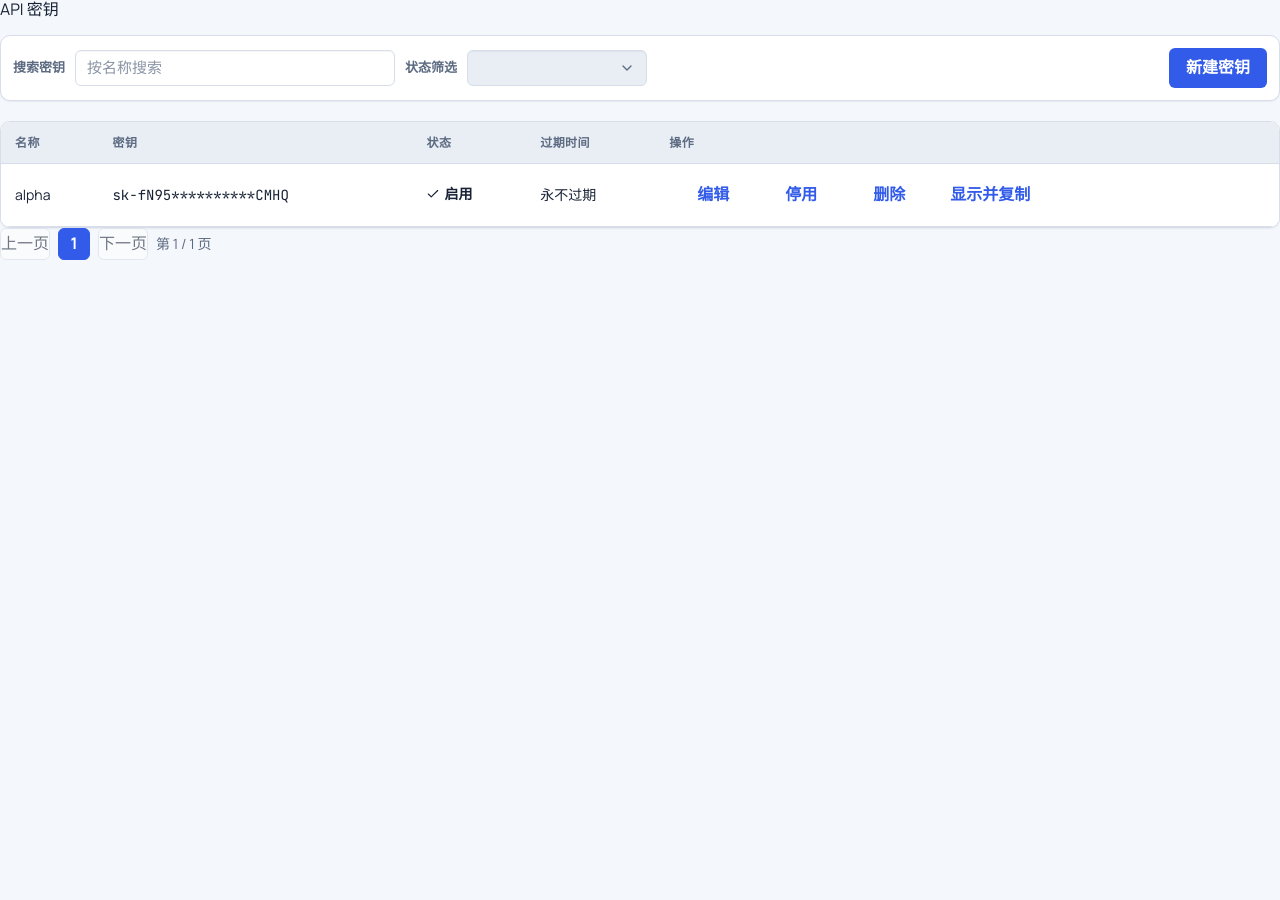
Test case: API Key 创建与编辑对话 › 行内取回打开确认对话
The image size is (1280, 900).
Expected: the text "alpha" is shown, [1,164,98,227]
Step 1. Click the button with aria-label "显示并复制 alpha" → coordinates (990, 195), box [933,175,1047,215]
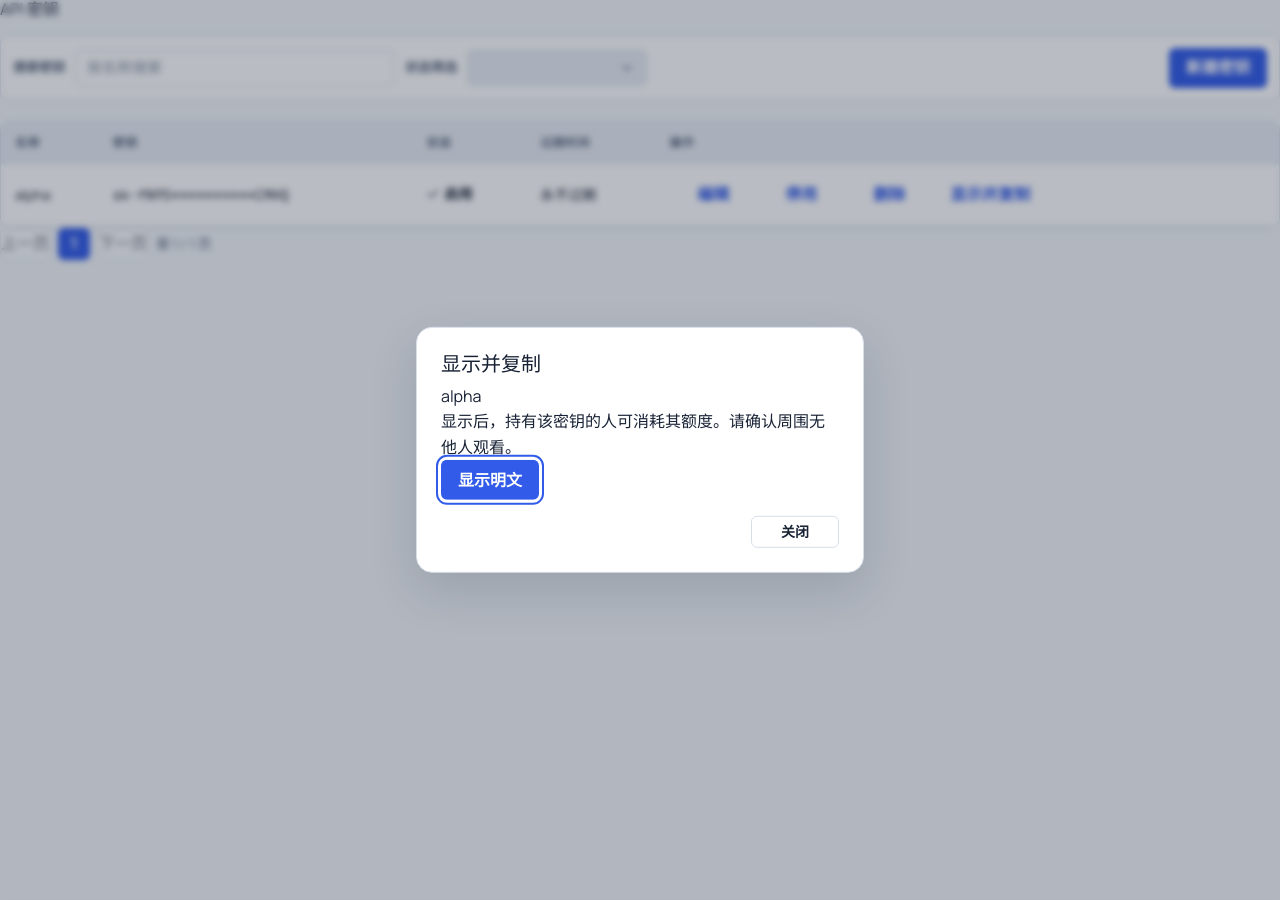
Step 2. Click the button "显示明文" → coordinates (490, 480), box [441,460,539,500]
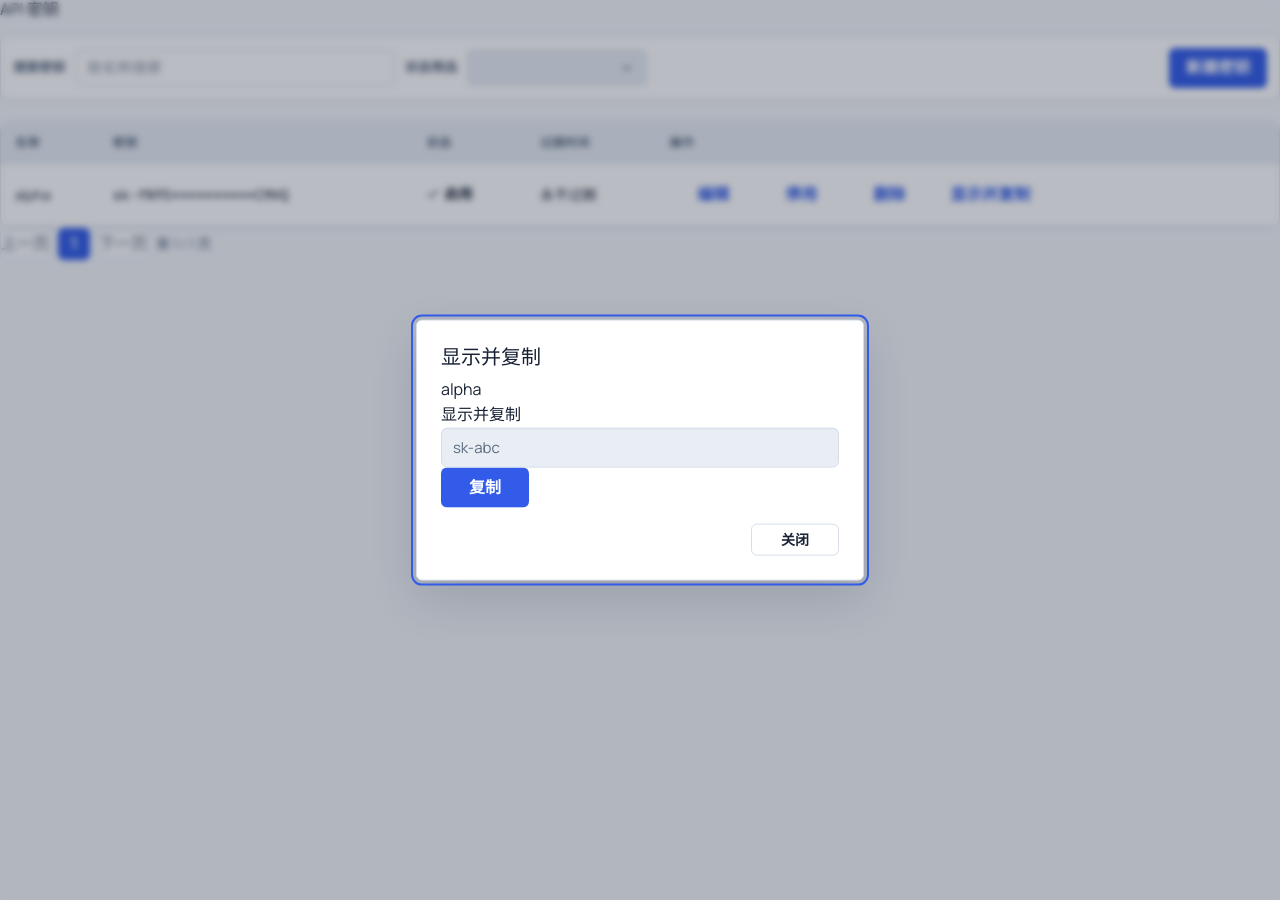
Now the field showing "sk-abc" is shown, box [441,427,839,467]
